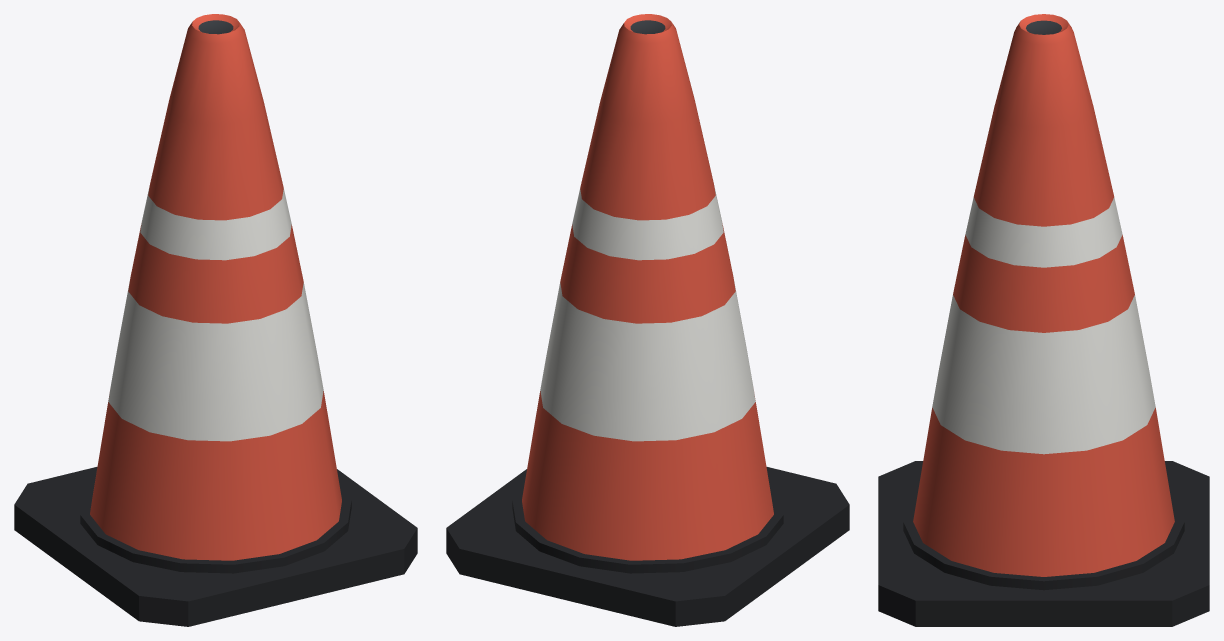
File: SC_Util_Traffic_Cone.gltf
The picture shows the model from 3 angles, left to right: view 1: azimuth 30°, elevation 25°; view 2: azimuth 150°, elevation 25°; view 3: azimuth 270°, elevation 25°; orthographic projection. The views are drawn at different scales.
Parts seen in each view (by area): view 1: SC_Util_Traffic_Cone; view 2: SC_Util_Traffic_Cone; view 3: SC_Util_Traffic_Cone.
Part boxes in pixels (x1=…): SC_Util_Traffic_Cone: x1=14, y1=14, x2=417, y2=626; SC_Util_Traffic_Cone: x1=446, y1=14, x2=849, y2=626; SC_Util_Traffic_Cone: x1=878, y1=14, x2=1209, y2=626.
Size of the model in its own units: 0.4 by 0.71 by 0.4.
Materials: 1 (1 with a texture image).
